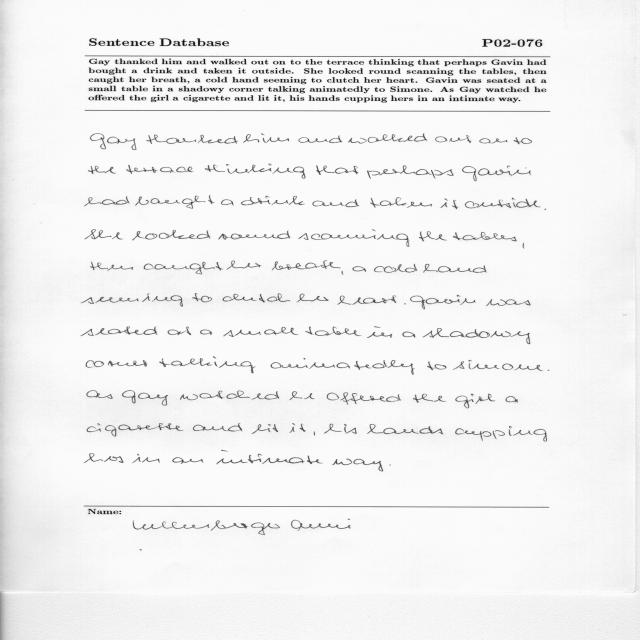word: (270, 358, 415, 375), (298, 229, 410, 247), (423, 328, 530, 344), (159, 357, 256, 373), (205, 164, 305, 179), (216, 451, 323, 465), (455, 426, 547, 441), (87, 423, 183, 437), (81, 294, 183, 307), (367, 165, 454, 179), (135, 196, 215, 209), (462, 166, 531, 181), (453, 360, 543, 371), (180, 391, 279, 401), (327, 392, 401, 405), (144, 262, 224, 274), (410, 295, 476, 309), (146, 135, 238, 144), (348, 134, 427, 144), (132, 230, 211, 240), (465, 198, 541, 208), (367, 424, 443, 434), (224, 327, 299, 337), (91, 134, 137, 150), (81, 327, 158, 336), (122, 391, 168, 406), (370, 197, 432, 208), (219, 231, 291, 240), (272, 261, 340, 270), (127, 165, 194, 174), (223, 294, 290, 303), (455, 394, 495, 409), (241, 196, 305, 205), (453, 232, 517, 241), (423, 264, 487, 273), (337, 296, 396, 305), (305, 327, 362, 336), (86, 360, 147, 368), (244, 134, 290, 144), (85, 197, 130, 207), (193, 423, 242, 432), (316, 165, 359, 175), (85, 453, 124, 463), (374, 264, 417, 273), (85, 230, 123, 240), (91, 262, 133, 271), (312, 200, 359, 208), (354, 459, 383, 471), (324, 424, 357, 434), (227, 261, 262, 270), (486, 299, 531, 306), (299, 136, 342, 143), (413, 394, 446, 403), (435, 135, 471, 143), (367, 327, 393, 338), (419, 232, 447, 242), (252, 424, 278, 434), (297, 294, 329, 302), (132, 454, 160, 463), (87, 390, 113, 399), (290, 392, 315, 401), (88, 166, 116, 174), (173, 457, 204, 464), (441, 199, 459, 210), (168, 327, 192, 335), (193, 294, 213, 303), (427, 362, 446, 371), (480, 138, 508, 144), (290, 423, 306, 433), (514, 137, 532, 144), (332, 459, 352, 465), (221, 199, 234, 206), (505, 396, 518, 403), (352, 266, 366, 272), (403, 332, 416, 338), (200, 330, 212, 335), (342, 271, 344, 275), (523, 243, 524, 249), (545, 208, 547, 210), (314, 432, 315, 436), (404, 304, 406, 305), (548, 370, 549, 371)
